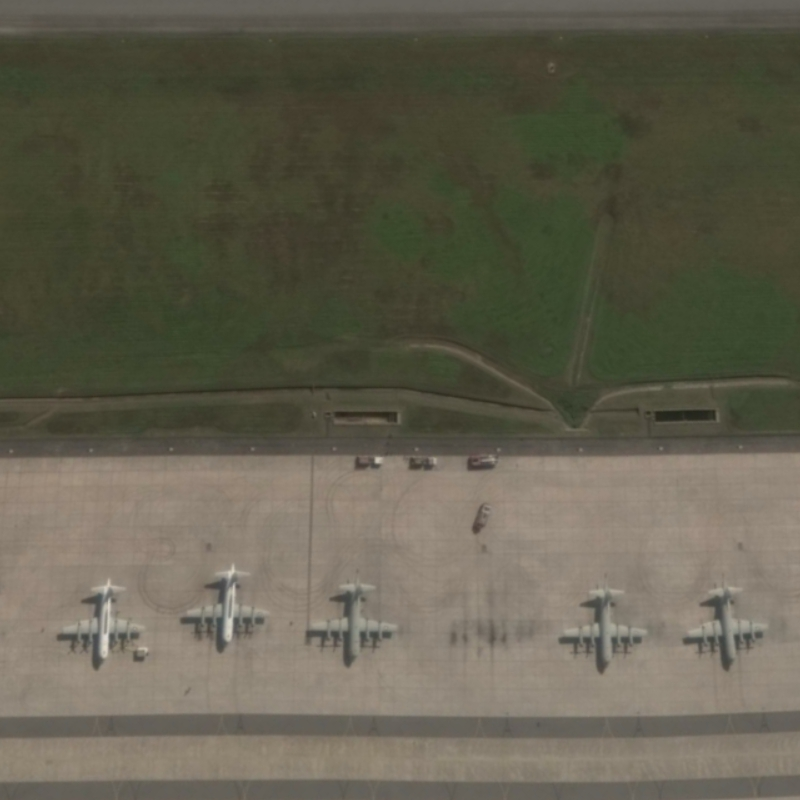A9: (299, 568, 402, 670), (49, 570, 149, 673), (554, 577, 656, 677), (173, 557, 274, 654), (677, 577, 776, 675)
